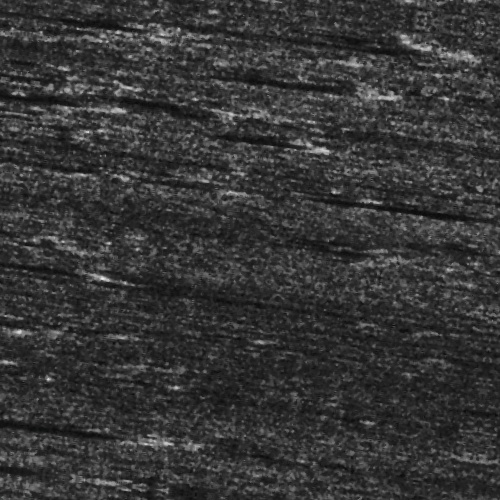object: (86, 30, 179, 51), (108, 443, 233, 456), (367, 19, 450, 36), (297, 70, 380, 87), (81, 491, 174, 500), (274, 130, 327, 143), (41, 119, 104, 128), (460, 184, 500, 195), (84, 290, 137, 297)
shadow: (16, 30, 132, 51), (196, 70, 339, 87), (271, 19, 408, 36), (0, 443, 171, 456), (188, 130, 301, 143), (376, 184, 500, 195), (2, 491, 127, 500), (0, 290, 110, 297), (0, 119, 72, 128)
